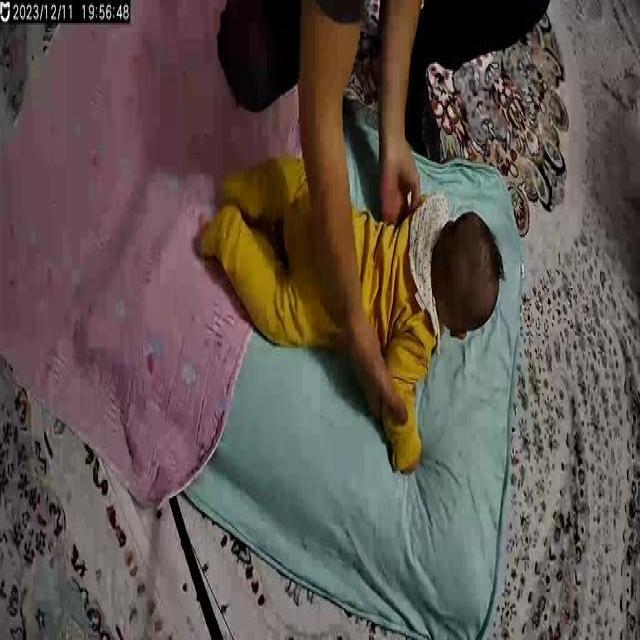baby: (204, 144, 506, 471)
